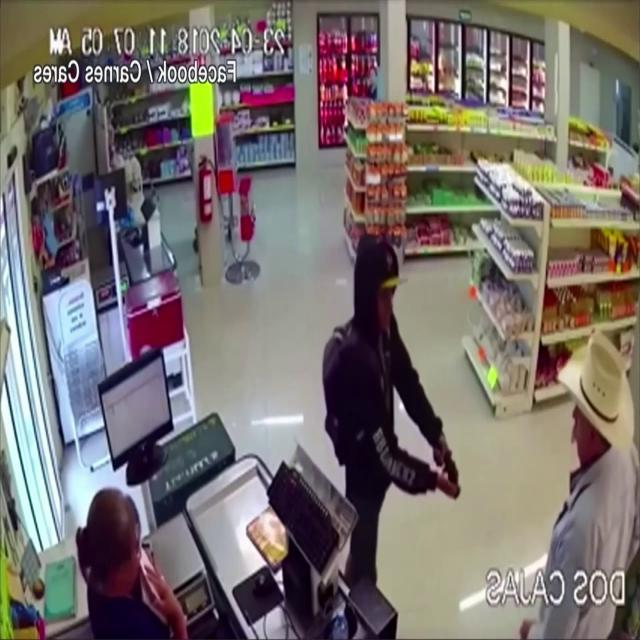Gun: (435, 449, 460, 498)
